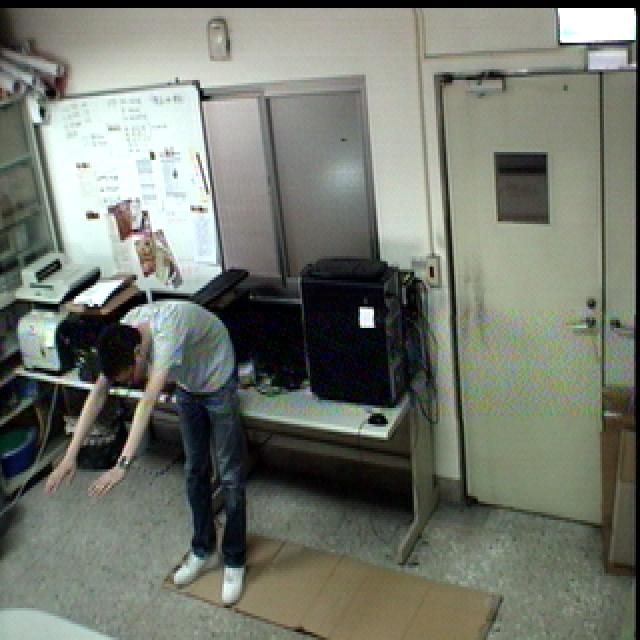bend: (44, 294, 253, 618)
